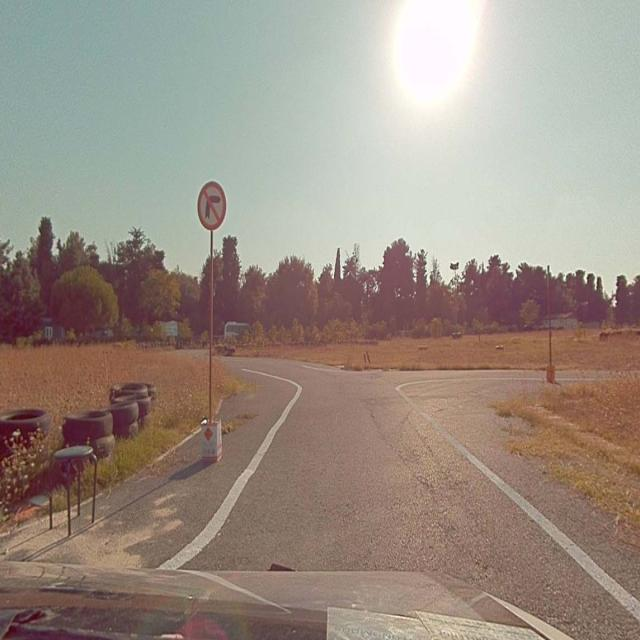sagadonulmez: (198, 180, 225, 230)
